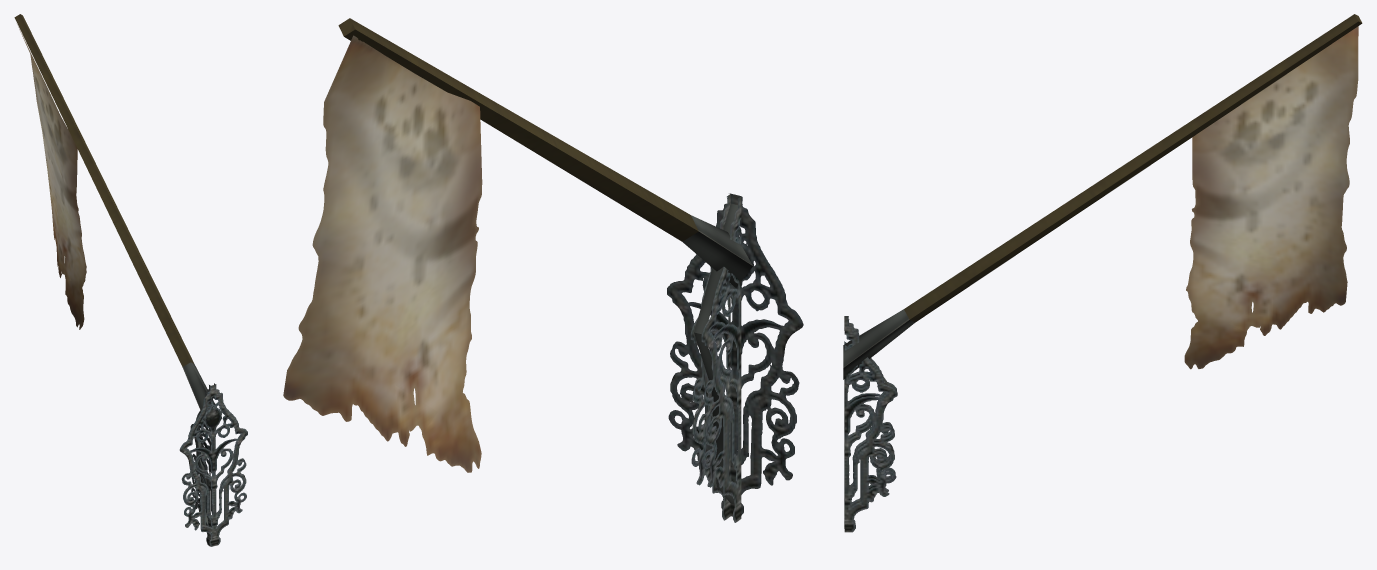
File: smeedwerk vlaggenstok.fbx
3 renders of one model, left to right at view 1: azimuth 30°, elevation 25°; view 2: azimuth 150°, elevation 25°; view 3: azimuth 270°, elevation 25°, orthographic. The views are drawn at different scales.
Parts seen in each view (by area): view 1: Mesh Object; view 2: Mesh Object; view 3: Mesh Object.
Boxes of the visible parts, bbox=[...] form: Mesh Object: bbox=[14, 14, 247, 546]; Mesh Object: bbox=[283, 18, 803, 522]; Mesh Object: bbox=[843, 14, 1362, 532].
Bounding box in the file's own units: 0.5954 × 2.84 × 2.58.
